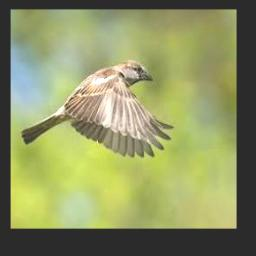Sparrow: (21, 60, 174, 157)
